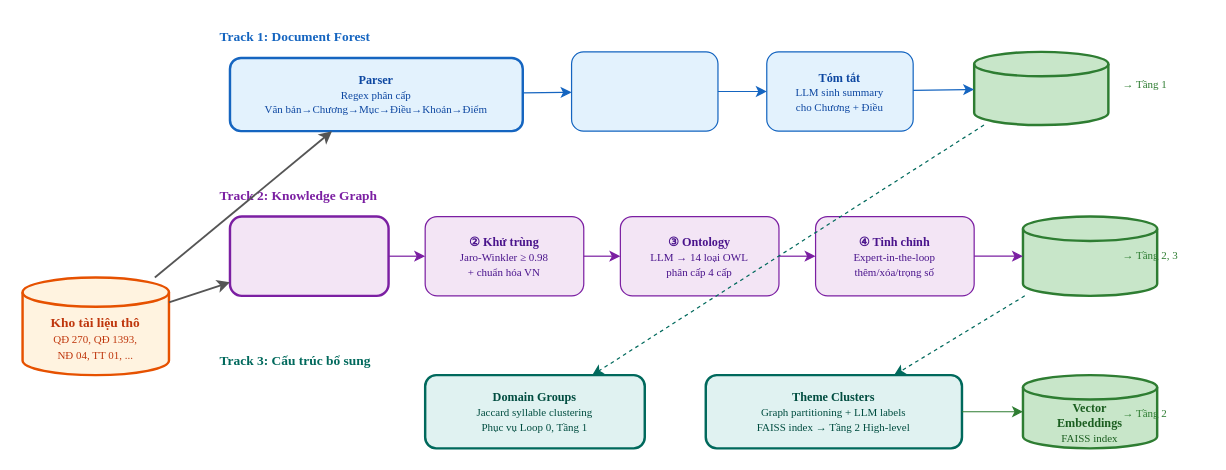
The diagram is 1226 pixels wide and 470 high, and some of its shapes have lost their labels. The shapes that lost their labels are listed below. From the top down, each one's centre as x and y in pixels, then its label:
the point at 644,91: Cross-ref Detection Pattern matching
the point at 1040,88: Document Forest Phục vụ Tầng 1
the point at 308,255: ① Trích xuất LLM trích entity + relation + evidence
the point at 1089,255: Knowledge Graph Phục vụ Tầng 2, 3
